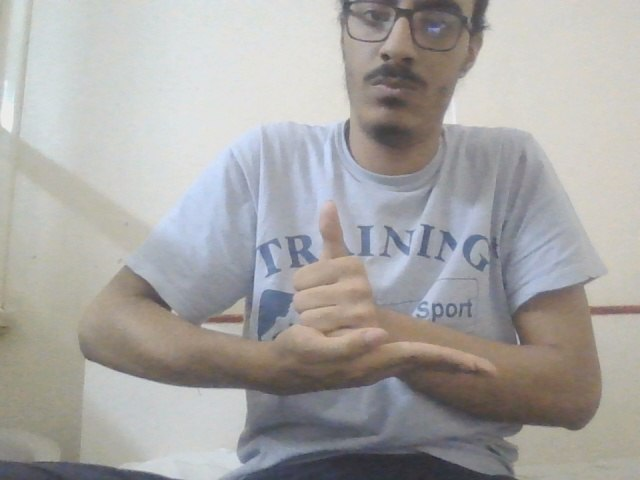Help: (262, 196, 494, 412)
